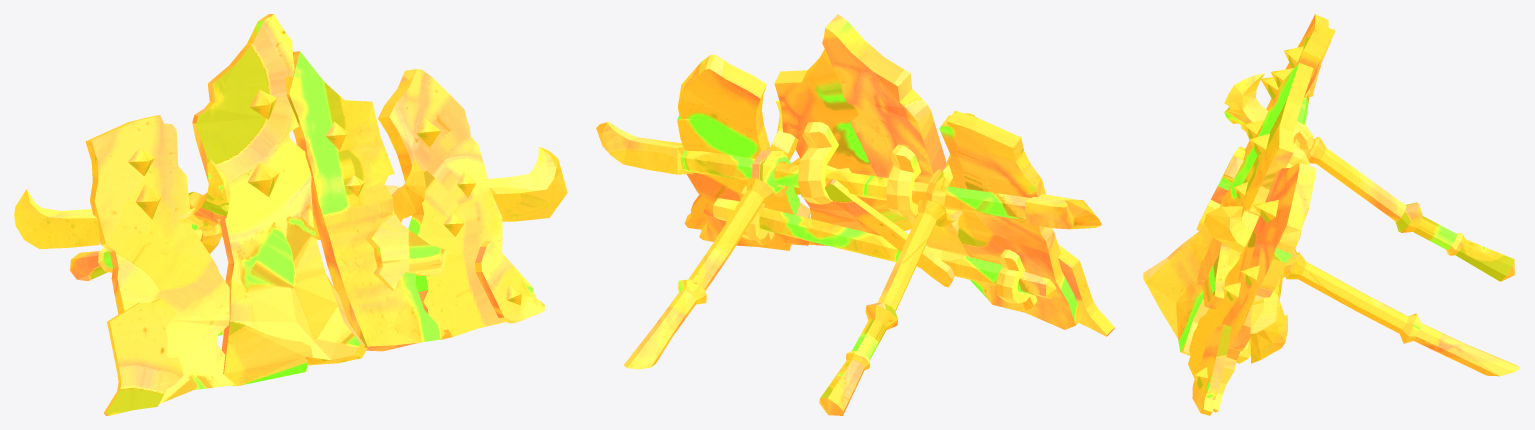
The model's file is BarricadeA.fbx.
3 renders of one model, left to right at view 1: azimuth 30°, elevation 25°; view 2: azimuth 150°, elevation 25°; view 3: azimuth 270°, elevation 25°, orthographic. The views are drawn at different scales.
Visible parts, largest first — view 1: Dn_HL_Barricade_D.mo; view 2: Dn_HL_Barricade_D.mo; view 3: Dn_HL_Barricade_D.mo.
Part boxes in pixels (x1=…): Dn_HL_Barricade_D.mo: x1=14, y1=14, x2=567, y2=415; Dn_HL_Barricade_D.mo: x1=596, y1=14, x2=1114, y2=415; Dn_HL_Barricade_D.mo: x1=1143, y1=14, x2=1520, y2=415.
Size of the model in its own units: 562 by 321 by 363.
